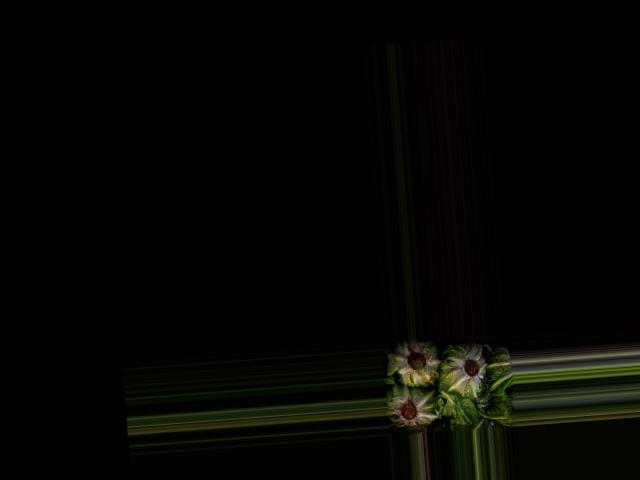lettuce: (385, 382, 438, 429)
